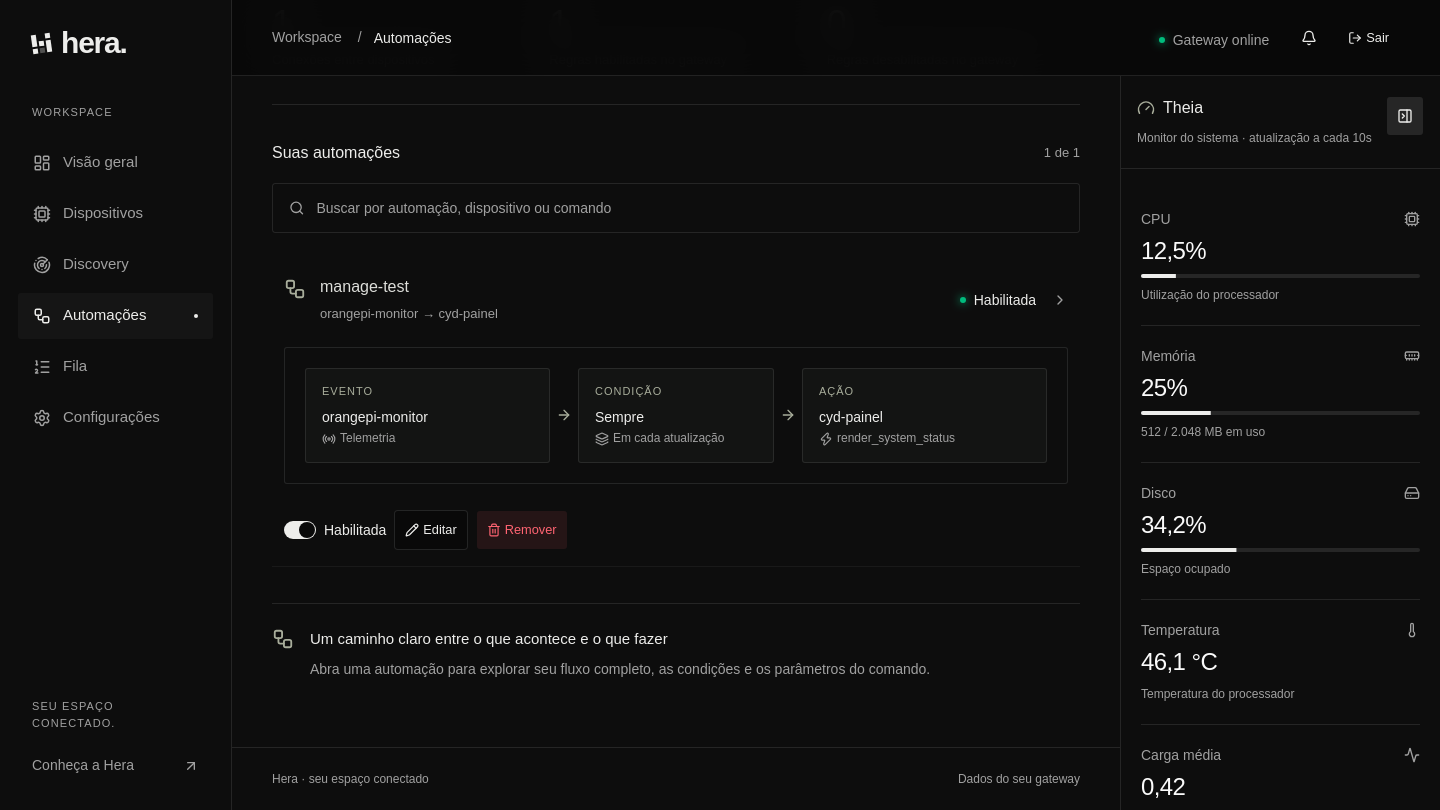
Test case: toggles and removes a rule from the list with confirmation and refreshed query data
(page scrolled)
Click the switch named "Desabilitar manage-test" at (300, 530), box [284,521,316,539]
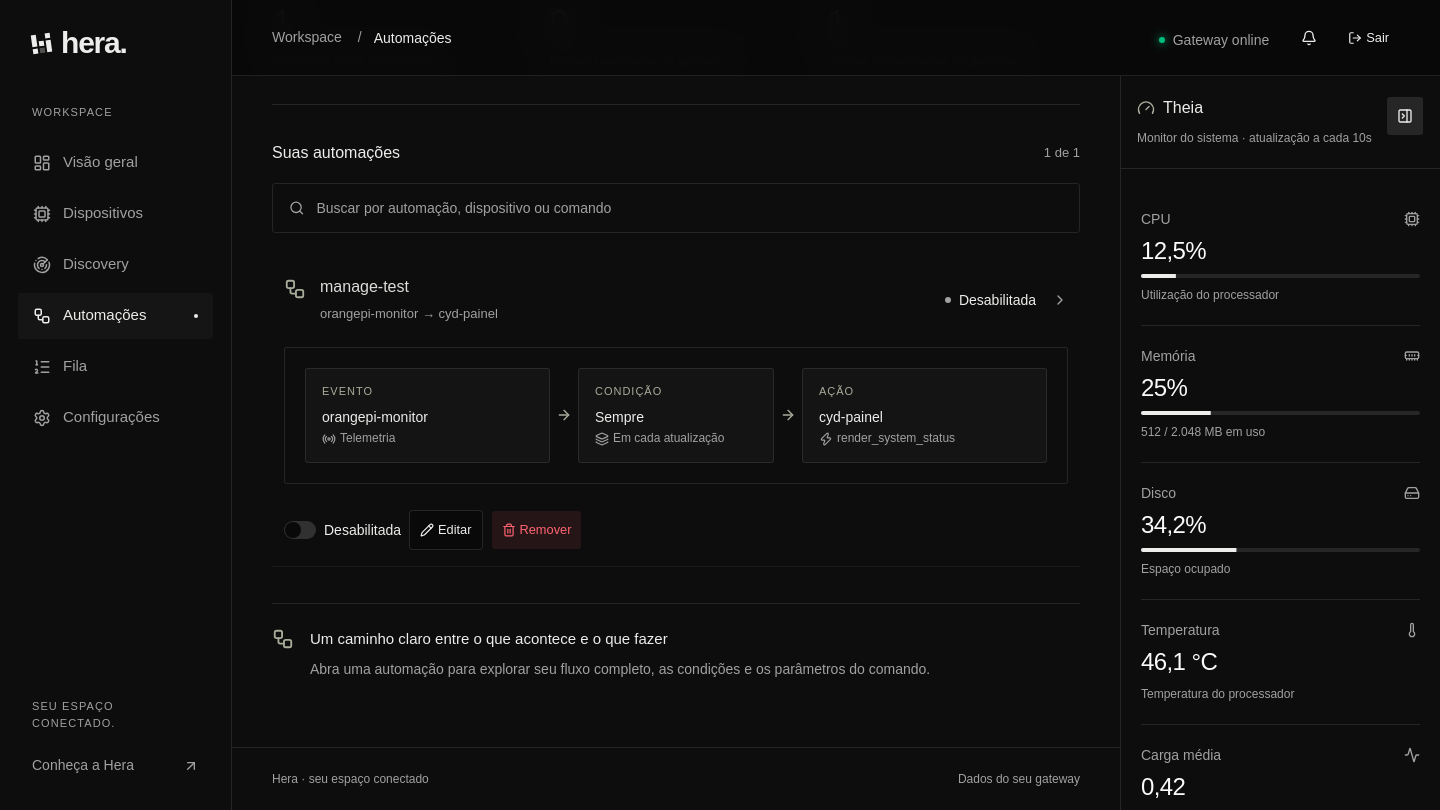
Check: the switch named "Habilitar manage-test" is shown, box [284,521,316,539]
Click the button with aria-label "Remover manage-test" at (536, 530), box [490,510,582,550]
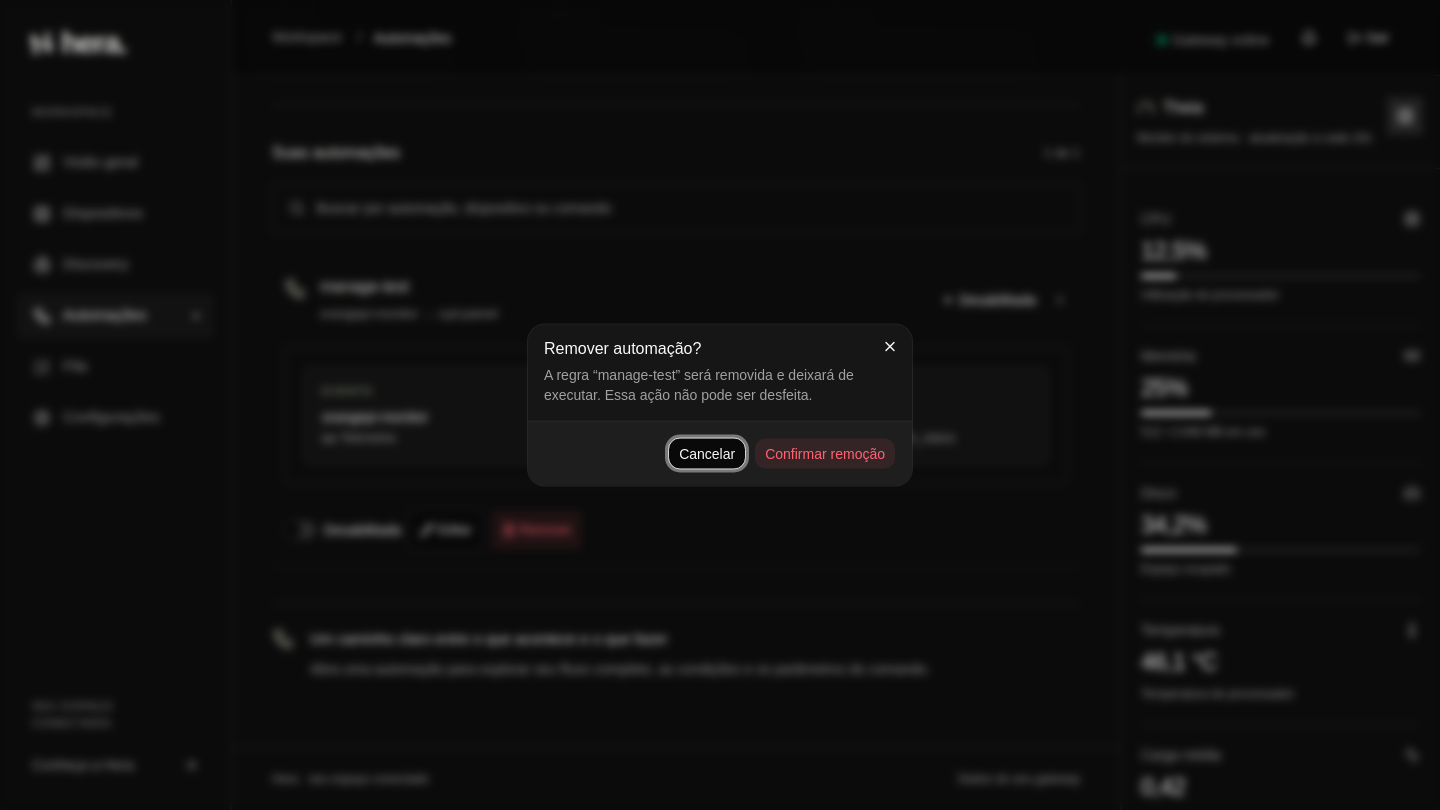
Click the button "Confirmar remoção" at (825, 454), box [754,438,896,470]
(page scrolled)
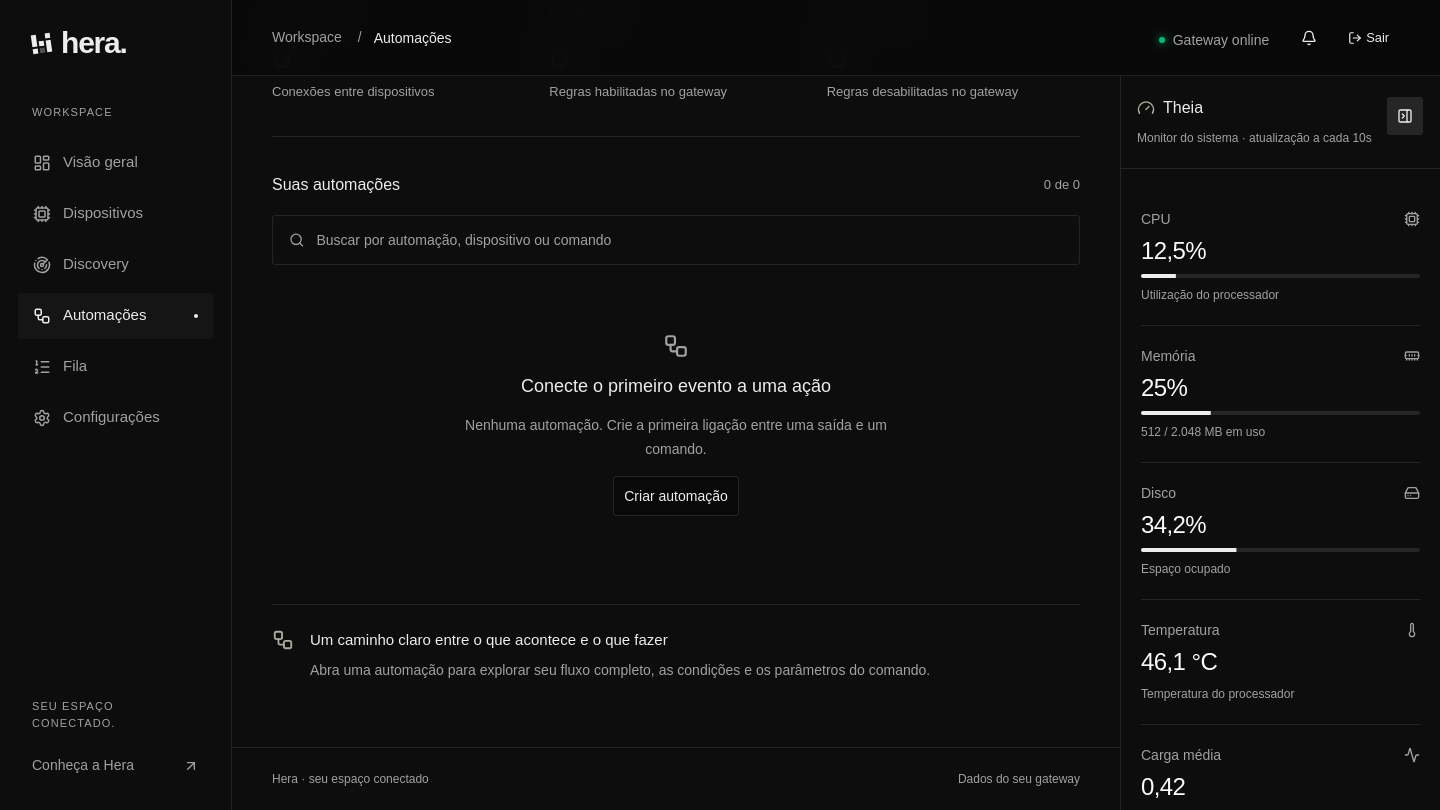
Check: the link "manage-test" is gone
